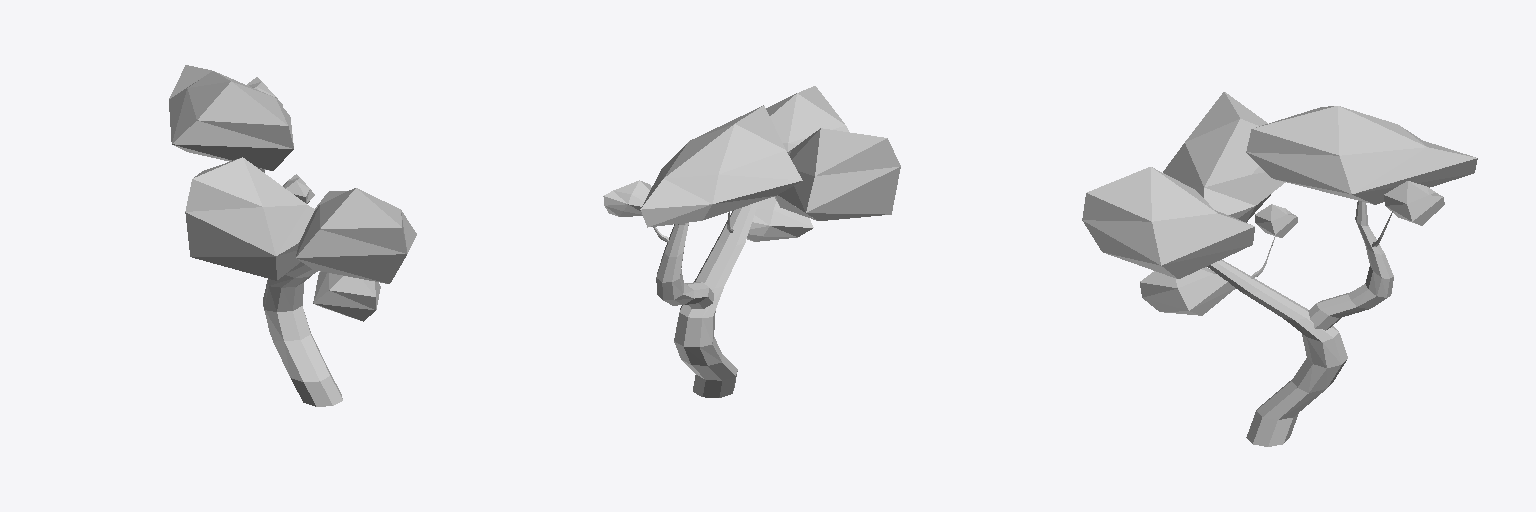
The model's file is tree2.obj.
3 renders of one model, left to right at view 1: azimuth 30°, elevation 25°; view 2: azimuth 150°, elevation 25°; view 3: azimuth 270°, elevation 25°, orthographic.
Visible parts, largest first — view 1: pCylinder24; view 2: pCylinder24; view 3: pCylinder24.
Part boxes in pixels (left/top/right/bottom): pCylinder24: left=169, top=65, right=416, bottom=406; pCylinder24: left=603, top=86, right=900, bottom=397; pCylinder24: left=1082, top=92, right=1477, bottom=446.
Bounding box in the file's own units: 9 × 12.87 × 15.14.